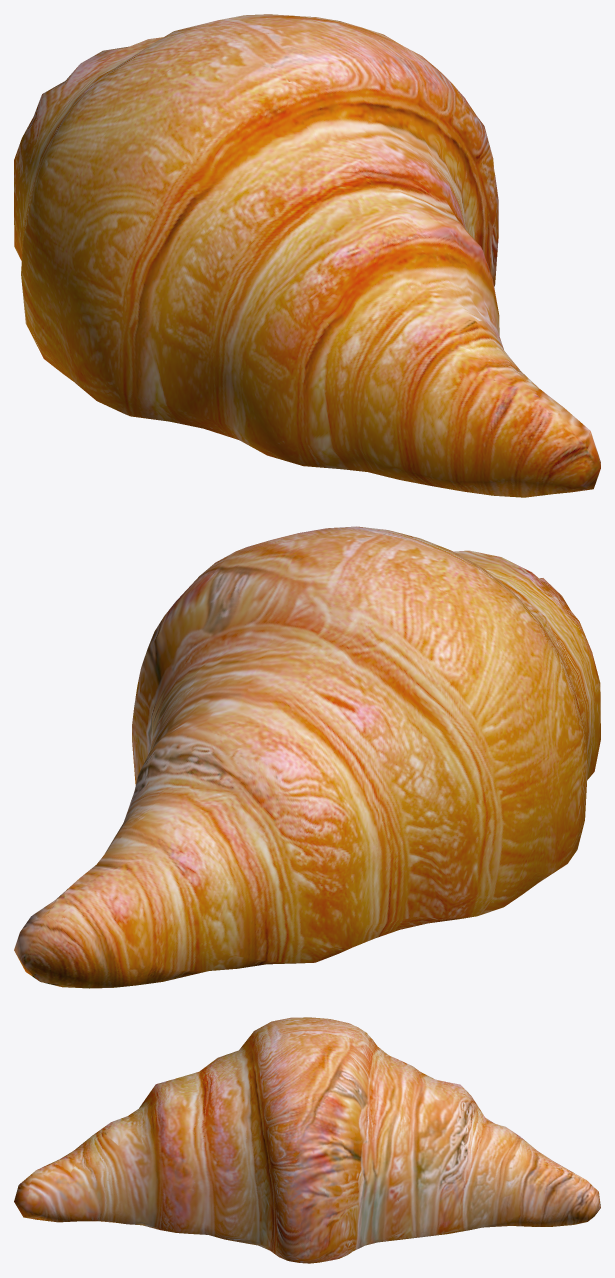
File: croissant.glb
The picture shows the model from 3 angles, top to bottom: view 1: azimuth 30°, elevation 25°; view 2: azimuth 150°, elevation 25°; view 3: azimuth 270°, elevation 25°; orthographic projection. The views are drawn at different scales.
Visible parts, largest first — view 1: Croissant; view 2: Croissant; view 3: Croissant.
Part boxes in pixels (x1,y1,x2,y2): Croissant: (14,14,600,497); Croissant: (14,526,600,988); Croissant: (14,1017,600,1263).
Size of the model in its own units: 0.073 by 0.0536 by 0.1546.
Materials: 1 (1 with a texture image).
